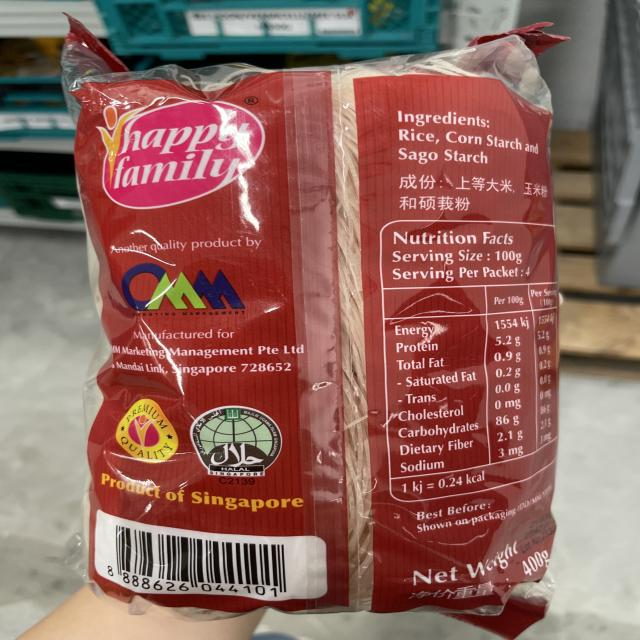object_name: (80, 67, 546, 606)
